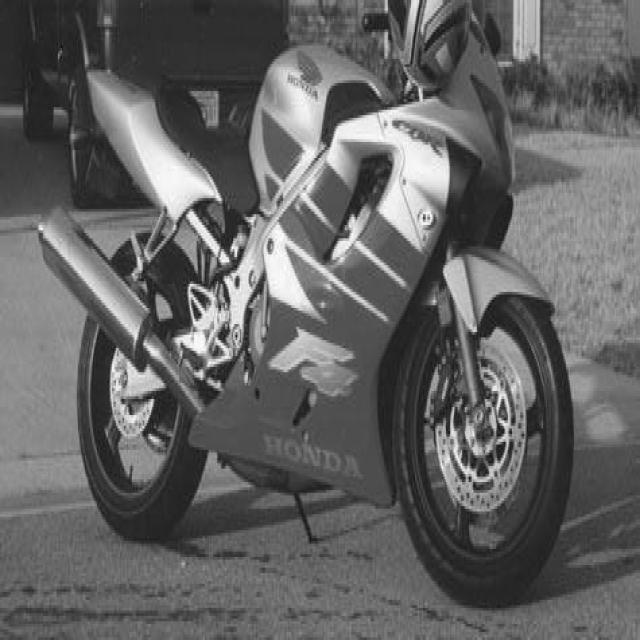Motorcycle: (39, 0, 571, 604)
